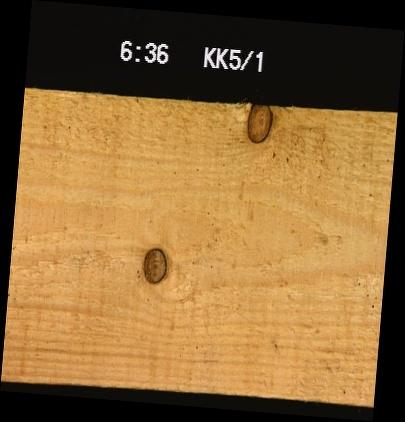dry_knot: (142, 247, 167, 284)
edge_knot: (244, 102, 272, 143)
